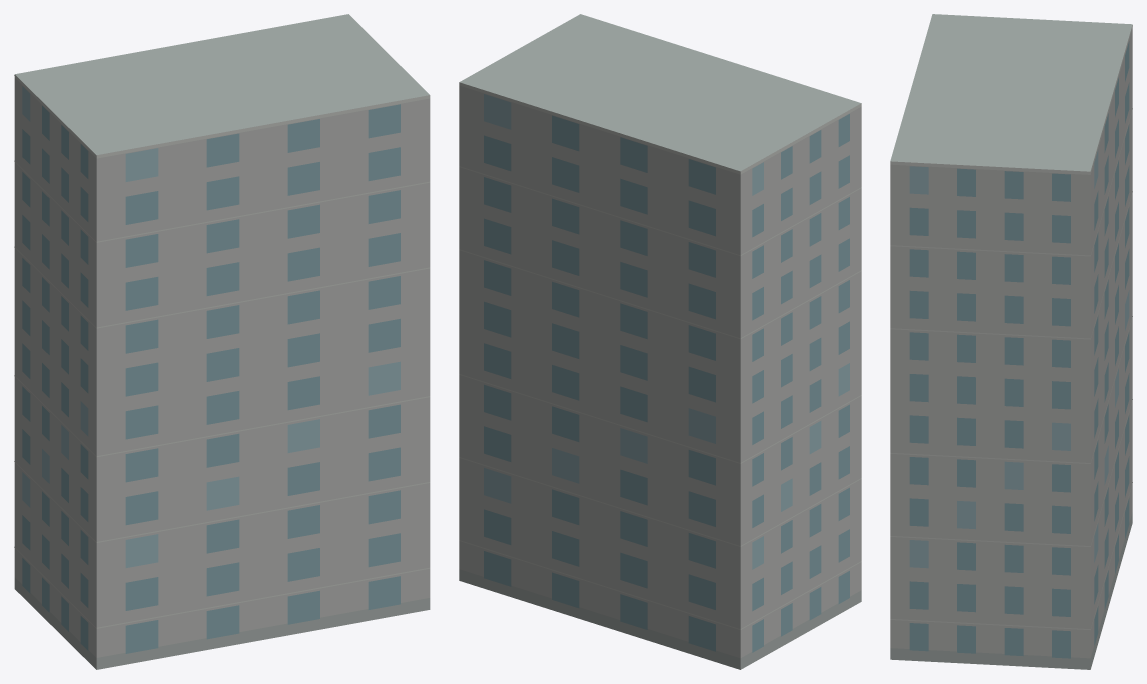
Rendered from residential-573a8a6f-c348-462c-b693-bb9cc15dd893.glb.
The picture shows the model from 3 angles, left to right: view 1: azimuth 30°, elevation 25°; view 2: azimuth 150°, elevation 25°; view 3: azimuth 270°, elevation 25°; orthographic projection. The views are drawn at different scales.
Visible parts, largest first — view 1: residential-573a8a6f-c348-462c-b693-bb9cc15dd893.tmp; view 2: residential-573a8a6f-c348-462c-b693-bb9cc15dd893.tmp; view 3: residential-573a8a6f-c348-462c-b693-bb9cc15dd893.tmp.
Boxes of the visible parts, x1,y1,x2,y2 form: residential-573a8a6f-c348-462c-b693-bb9cc15dd893.tmp: [14, 14, 430, 669]; residential-573a8a6f-c348-462c-b693-bb9cc15dd893.tmp: [459, 14, 861, 669]; residential-573a8a6f-c348-462c-b693-bb9cc15dd893.tmp: [890, 14, 1132, 669].
Bounding box in the file's own units: 25.13 × 37 × 16.35.
